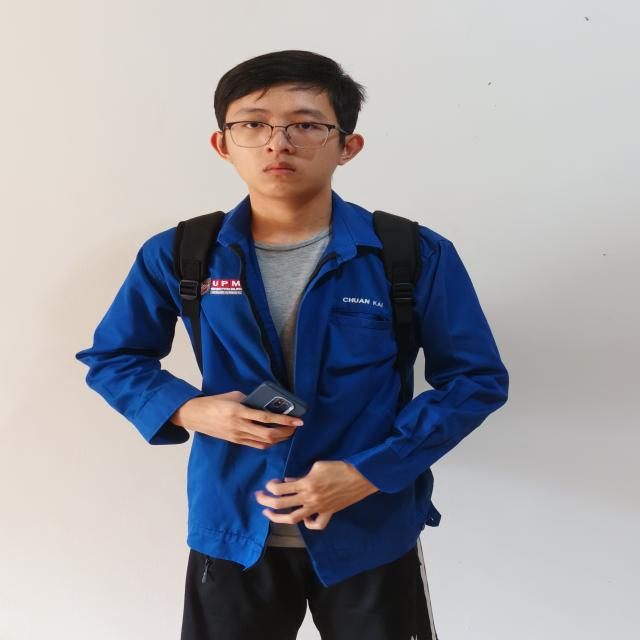person_with_labcoat: (77, 51, 508, 640)
